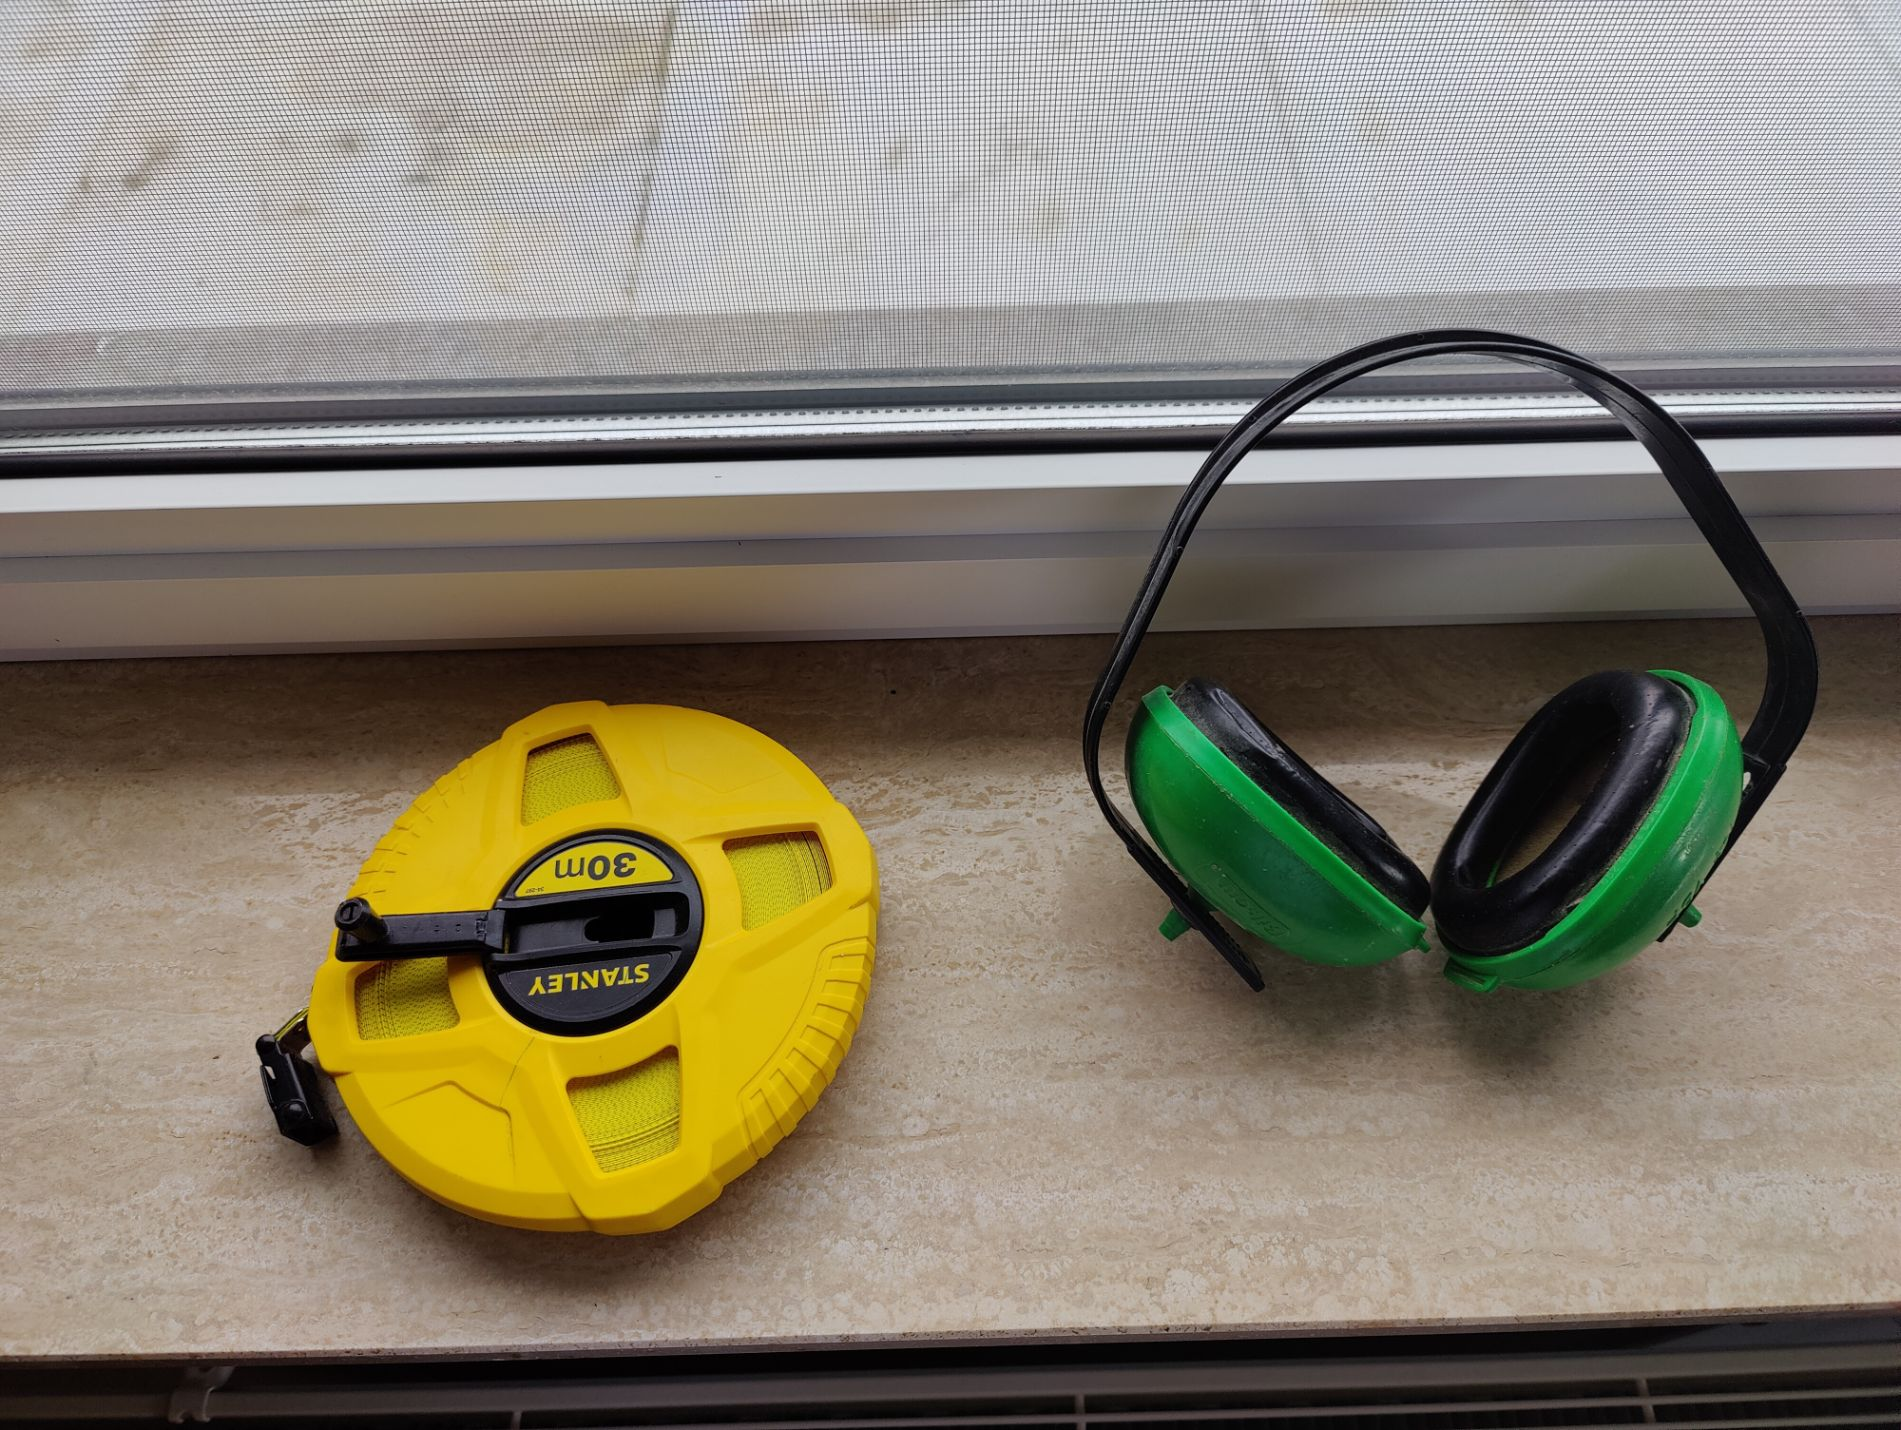headphones: (1078, 336, 1823, 985)
tapemeasure: (243, 701, 883, 1244)
